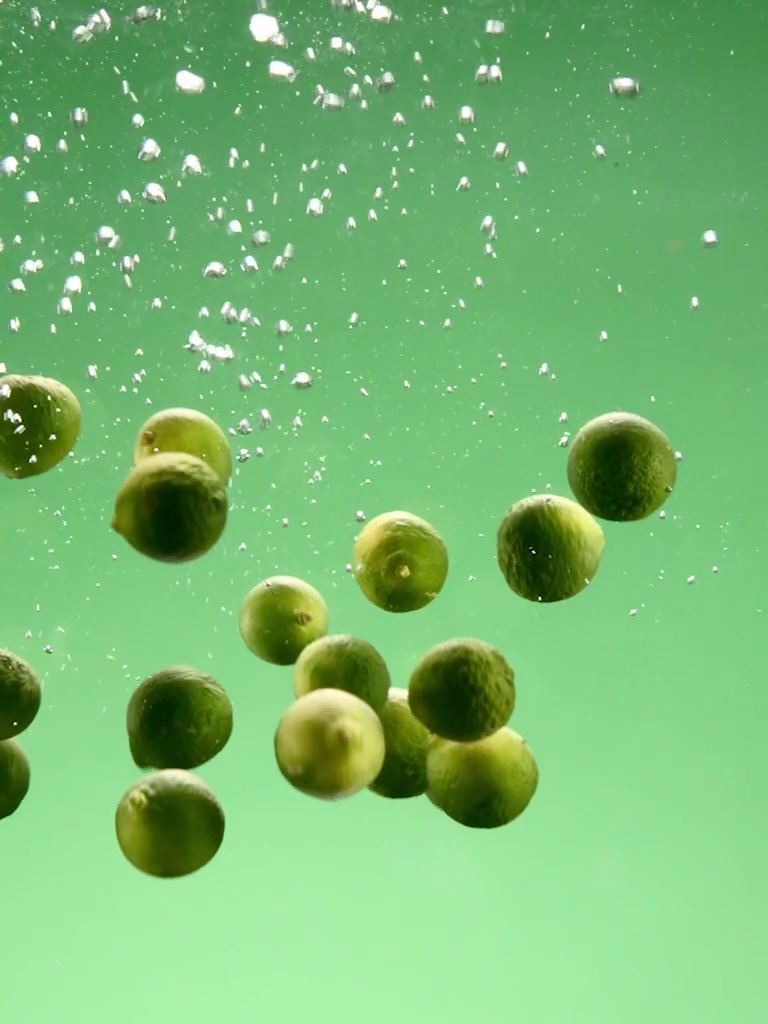Orange: (570, 416, 680, 521)
